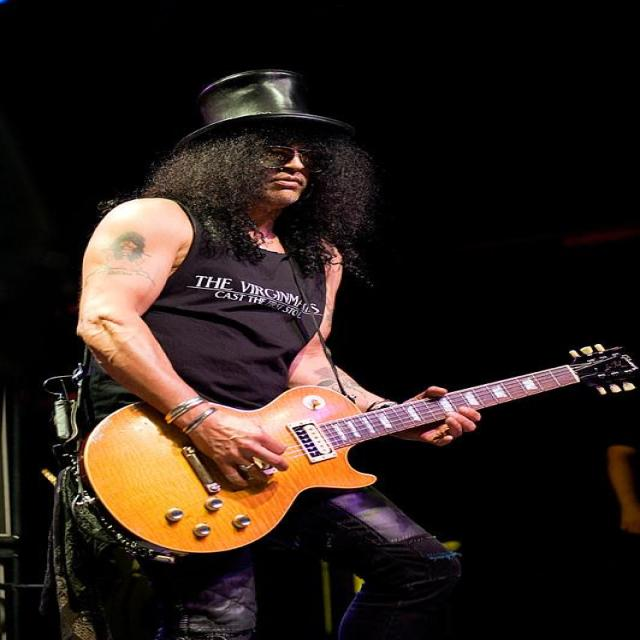guitar: (80, 346, 636, 553)
